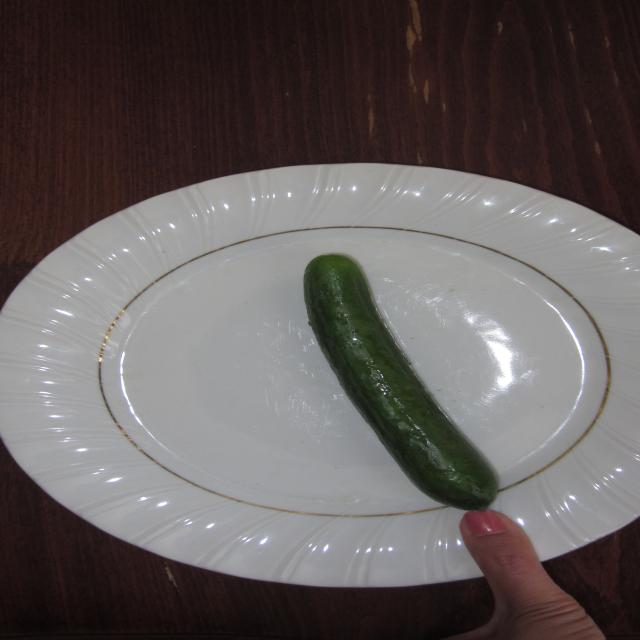cucumber: (292, 246, 562, 513)
